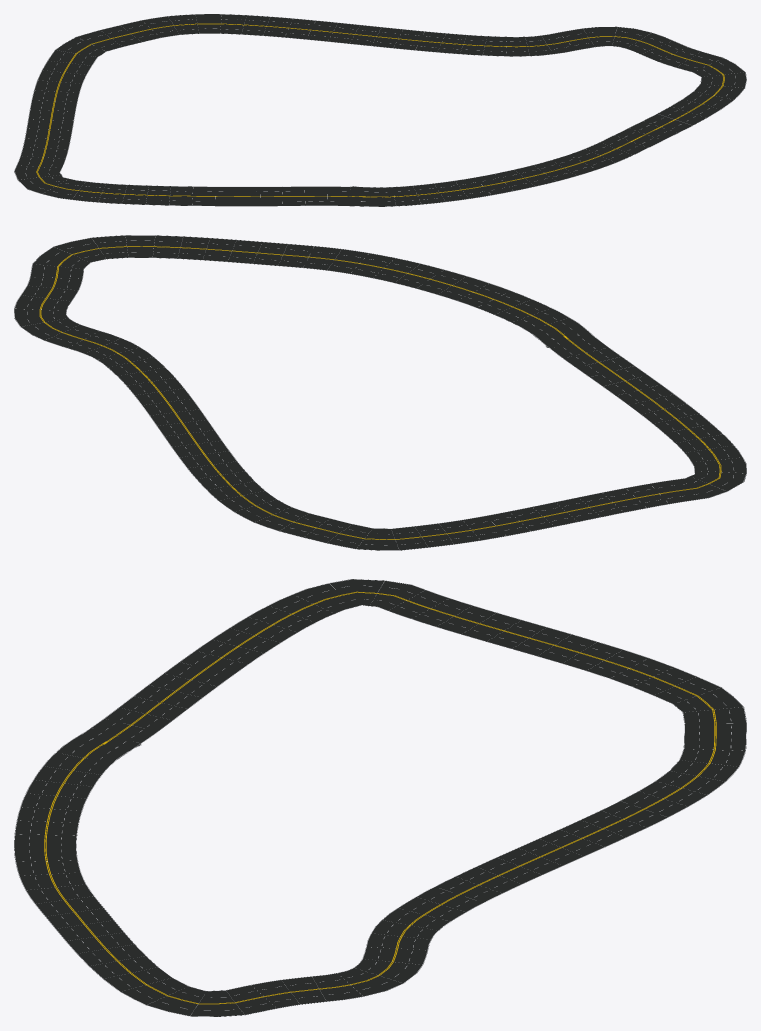
The model's file is track02.fbx.
3 renders of one model, top to bottom at view 1: azimuth 30°, elevation 25°; view 2: azimuth 150°, elevation 25°; view 3: azimuth 270°, elevation 25°, orthographic. The views are drawn at different scales.
Parts seen in each view (by area): view 1: Plane; view 2: Plane; view 3: Plane.
Part boxes in pixels (x1,y1,x2,y2): Plane: (14,14,746,206); Plane: (14,235,746,550); Plane: (14,579,746,1016).
Size of the model in its own units: 13259 by 16.64 by 9379.
